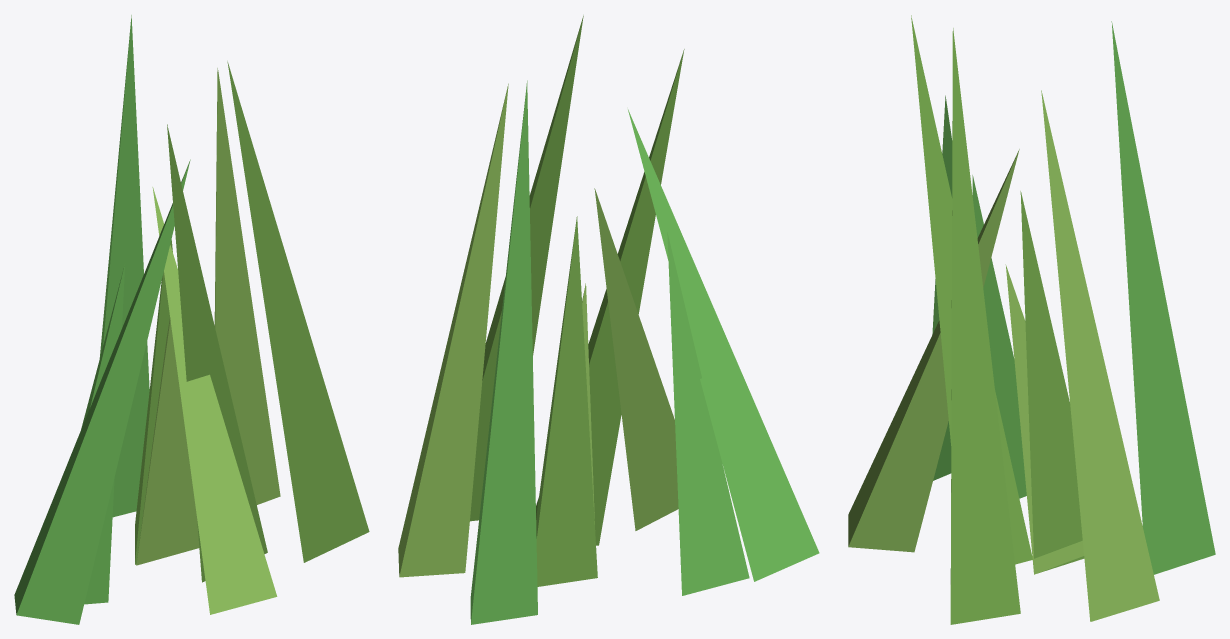
The model's file is Grass_Tuft_A.fbx.
3 renders of one model, left to right at view 1: azimuth 30°, elevation 25°; view 2: azimuth 150°, elevation 25°; view 3: azimuth 270°, elevation 25°, orthographic. The views are drawn at different scales.
Parts seen in each view (by area): view 1: Grass_Tuft_A; view 2: Grass_Tuft_A; view 3: Grass_Tuft_A.
Part boxes in pixels (x1,y1,x2,y2): Grass_Tuft_A: (14,15,369,624); Grass_Tuft_A: (398,15,819,624); Grass_Tuft_A: (848,15,1215,624).
Size of the model in its own units: 0.4221 by 0.5796 by 0.3534.
1 material, 1 textured.
